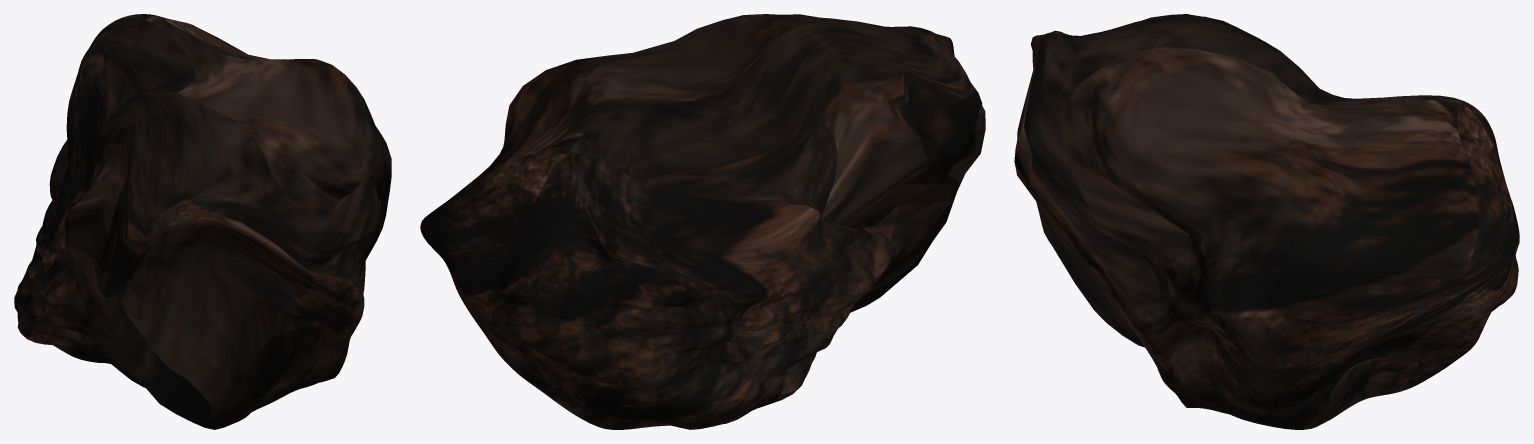
File: rock6.fbx
3 views of the same model, side by side, from view 1: azimuth 30°, elevation 25°; view 2: azimuth 150°, elevation 25°; view 3: azimuth 270°, elevation 25° (orthographic). The views are drawn at different scales.
Visible parts, largest first — view 1: Icosphere; view 2: Icosphere; view 3: Icosphere.
Part boxes in pixels (<box>): Icosphere: <box>14,14,391,429</box>; Icosphere: <box>420,14,985,429</box>; Icosphere: <box>1014,14,1519,429</box>.
Size of the model in its own units: 307 by 275 by 373.
